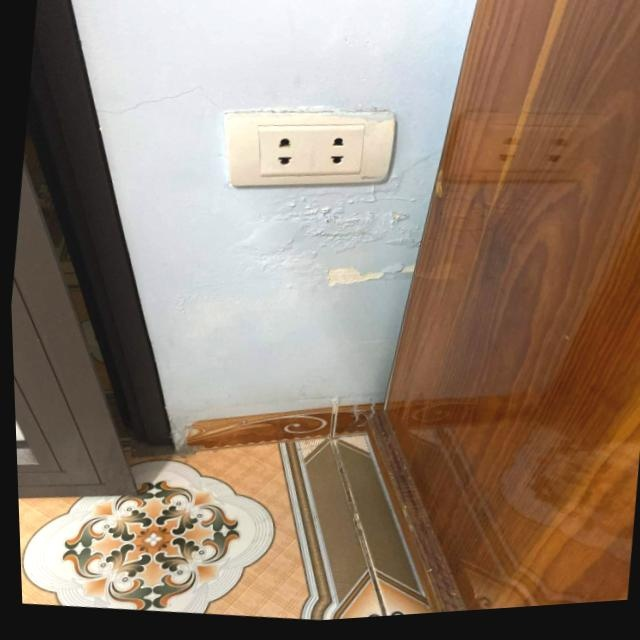outlet: (214, 88, 401, 207)
